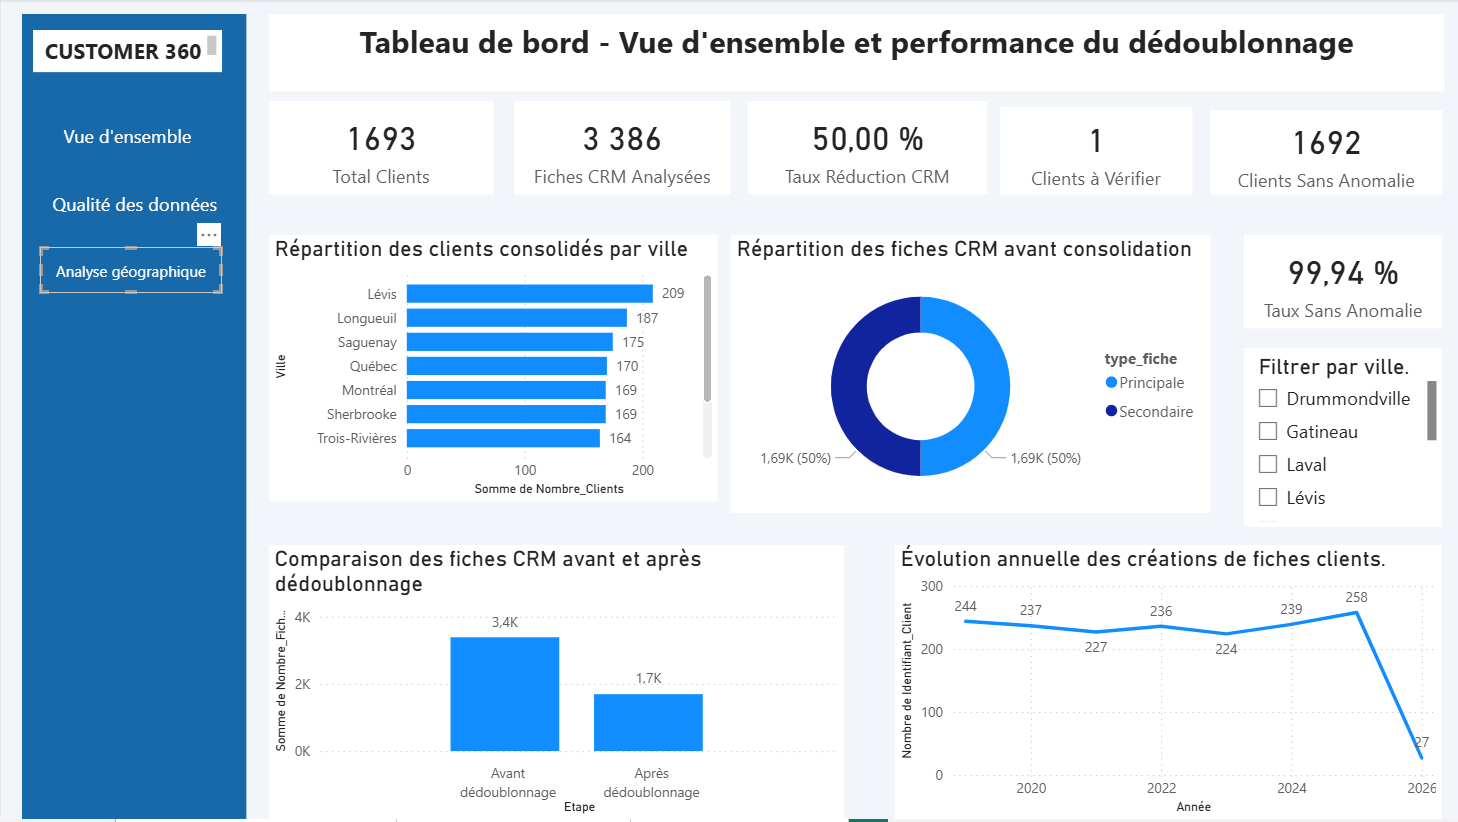

This screenshot's page, from the dashboard's own definition file:
{"tool":"powerbi","page":{"name":"Vue d'ensemble et performance du dédoublonnage","canvas":[1280,720],"ordinal":0},"visuals":[{"type":"card","fields":{"Values":["vw_Customer360_Clients.Total Clients"]},"box":[235.3,89.3,197,82.2],"z":0},{"type":"card","fields":{"Values":["Bilan_Dedoublonnage.Fiches CRM Analysées"]},"box":[450.7,89.3,189.9,82.2],"z":1000},{"type":"card","fields":{"Values":["Bilan_Dedoublonnage.Taux Réduction CRM"]},"box":[656.2,89.3,209.8,82.2],"z":2000},{"type":"card","fields":{"Values":["vw_Customer360_Clients.Clients à Vérifier"]},"box":[877.3,95,168.7,76.5],"z":3000},{"type":"card","fields":{"Values":["vw_Customer360_Clients.Clients Sans Anomalie"]},"box":[1061.6,97.8,204.1,73.7],"z":4000},{"type":"card","fields":{"Values":["vw_Customer360_Clients.Taux Sans Anomalie"]},"box":[1091.3,206.9,174.3,82.2],"z":5000},{"type":"clusteredBarChart","title":"Répartition des clients consolidés par ville","fields":{"Category":["vw_Customer360_Qualite_Villes.Ville"],"Y":["Sum(vw_Customer360_Qualite_Villes.Nombre_Clients)"]},"box":[235.3,206.9,394,233.9],"z":6000},{"type":"textbox","box":[235.3,12.8,1031.8,68],"z":7000},{"type":"donutChart","title":"Répartition des fiches CRM avant consolidation","fields":{"Category":["Correspondances_CRM.type_fiche"],"Y":["CountNonNull(Correspondances_CRM.crm_customer_id)"]},"box":[640.6,206.9,420.9,243.8],"z":8000},{"type":"clusteredColumnChart","title":"Comparaison des fiches CRM avant et après dédoublonnage","fields":{"Category":["Comparaison_Dedoublonnage.Etape"],"Y":["Sum(Comparaison_Dedoublonnage.Nombre_Fiches)"]},"box":[235.3,479.1,504.6,240.9],"z":9000},{"type":"lineChart","title":"Évolution annuelle des créations de fiches clients.","fields":{"Category":["vw_Customer360_Clients.Date_Creation_Fiable.Variation.Hiérarchie de dates.Année"],"Y":["Count(vw_Customer360_Clients.Identifiant_Client)"]},"box":[785.2,479.1,480.5,240.9],"z":10000},{"type":"slicer","fields":{"Values":["vw_Customer360_Clients.Ville"]},"box":[1091.3,306.1,174.3,157.3],"z":11000},{"type":"shape","box":[18.4,12.8,197,707.2],"z":12000},{"type":"textbox","box":[28.3,26.9,165.8,36.9],"z":13000},{"type":"actionButton","box":[28.3,80.8,165.8,79.4],"z":14000},{"type":"actionButton","box":[32.6,160.2,170.1,39.7],"z":15000},{"type":"actionButton","box":[34.2,217.8,159.8,40.4],"z":15001}]}

Visuals, with their boxes on the page's 1280x720 design canvas (x1, y1, x2, y2). These are canvas units, not pixel positions in the 1458x822 screenshot, which may show the page scaled, cropped or inside an application window:
card - vw_Customer360_Clients.Total Clients: (235,89,432,172)
card - Bilan_Dedoublonnage.Fiches CRM Analysées: (451,89,641,172)
card - Bilan_Dedoublonnage.Taux Réduction CRM: (656,89,866,172)
card - vw_Customer360_Clients.Clients à Vérifier: (877,95,1046,172)
card - vw_Customer360_Clients.Clients Sans Anomalie: (1062,98,1266,172)
card - vw_Customer360_Clients.Taux Sans Anomalie: (1091,207,1266,289)
"Répartition des clients consolidés par ville" clusteredBarChart: (235,207,629,441)
textbox: (235,13,1267,81)
"Répartition des fiches CRM avant consolidation" donutChart: (641,207,1062,451)
"Comparaison des fiches CRM avant et après dédoublonnage" clusteredColumnChart: (235,479,740,720)
"Évolution annuelle des créations de fiches clients." lineChart: (785,479,1266,720)
slicer - vw_Customer360_Clients.Ville: (1091,306,1266,463)
shape: (18,13,215,720)
textbox: (28,27,194,64)
actionButton: (28,81,194,160)
actionButton: (33,160,203,200)
actionButton: (34,218,194,258)
